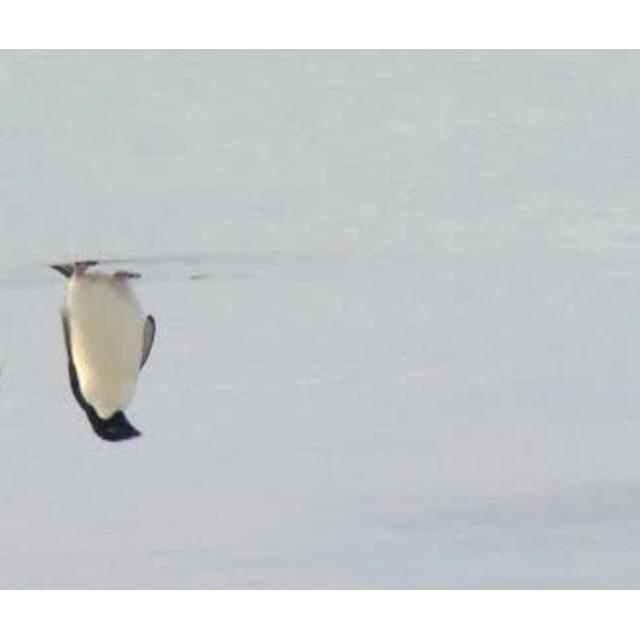penguin: (48, 258, 157, 442)
